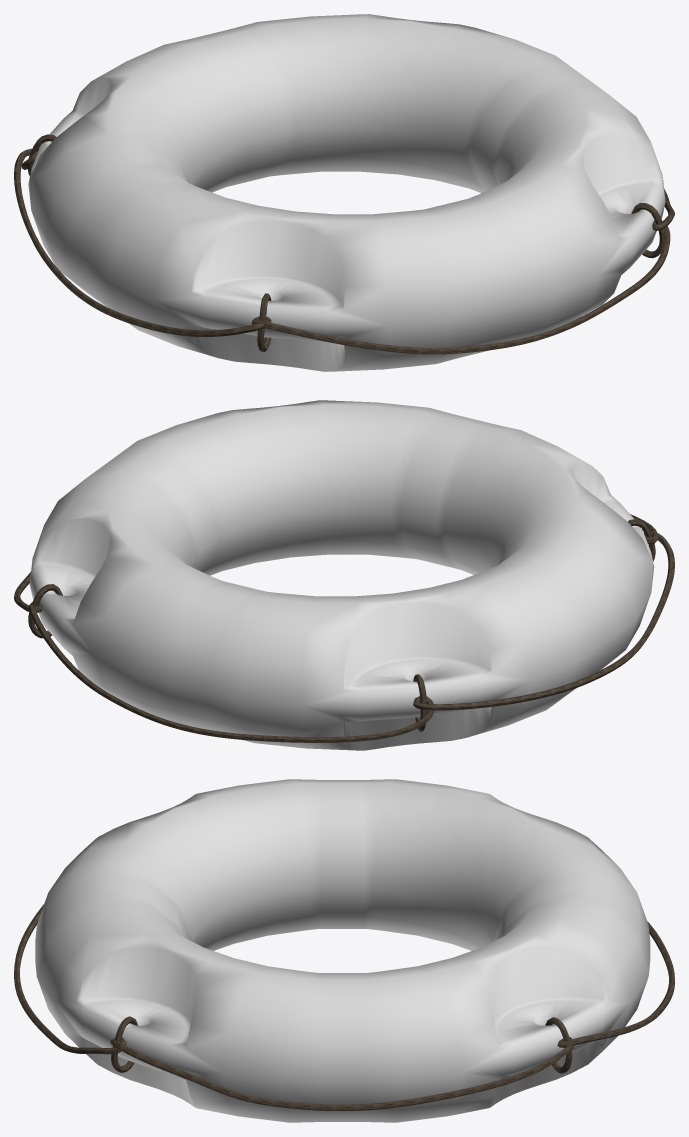
File: lifebuoy.fbx
3 renders of one model, top to bottom at view 1: azimuth 30°, elevation 25°; view 2: azimuth 150°, elevation 25°; view 3: azimuth 270°, elevation 25°, orthographic. The views are drawn at different scales.
Parts seen in each view (by area): view 1: lifebuoy_low_poly; view 2: lifebuoy_low_poly; view 3: lifebuoy_low_poly.
Boxes of the visible parts, <box> form: lifebuoy_low_poly: <box>14,14,674,371</box>; lifebuoy_low_poly: <box>14,400,674,750</box>; lifebuoy_low_poly: <box>14,779,674,1122</box>.
Bounding box in the file's own units: 0.9044 × 0.2298 × 0.9528.
Materials: 2 (1 with a texture image).
